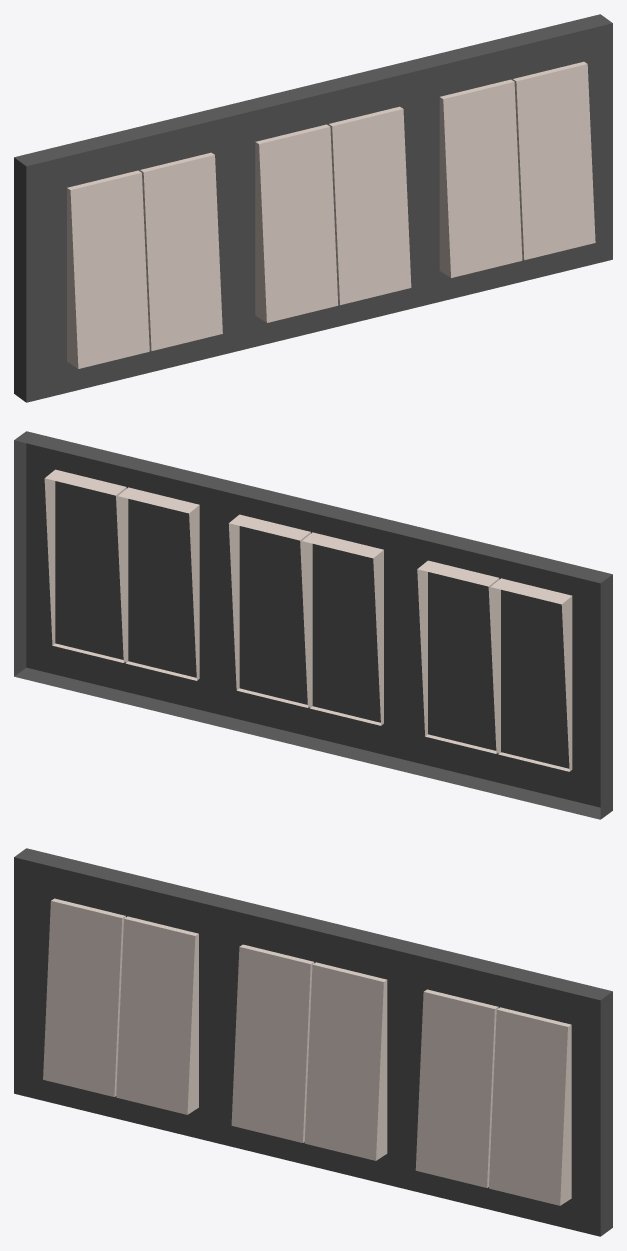
The model's file is Switch_3.fbx.
3 renders of one model, top to bottom at view 1: azimuth 30°, elevation 25°; view 2: azimuth 150°, elevation 25°; view 3: azimuth 330°, elevation 25°, orthographic.
Visible parts, largest first — view 1: Switch_3; view 2: Switch_3; view 3: Switch_3.
Boxes of the visible parts, x1=… form: Switch_3: x1=14, y1=14, x2=612, y2=402; Switch_3: x1=14, y1=431, x2=612, y2=819; Switch_3: x1=14, y1=848, x2=612, y2=1236.
Bounding box in the file's own units: 47.34 × 3.34 × 18.23.
